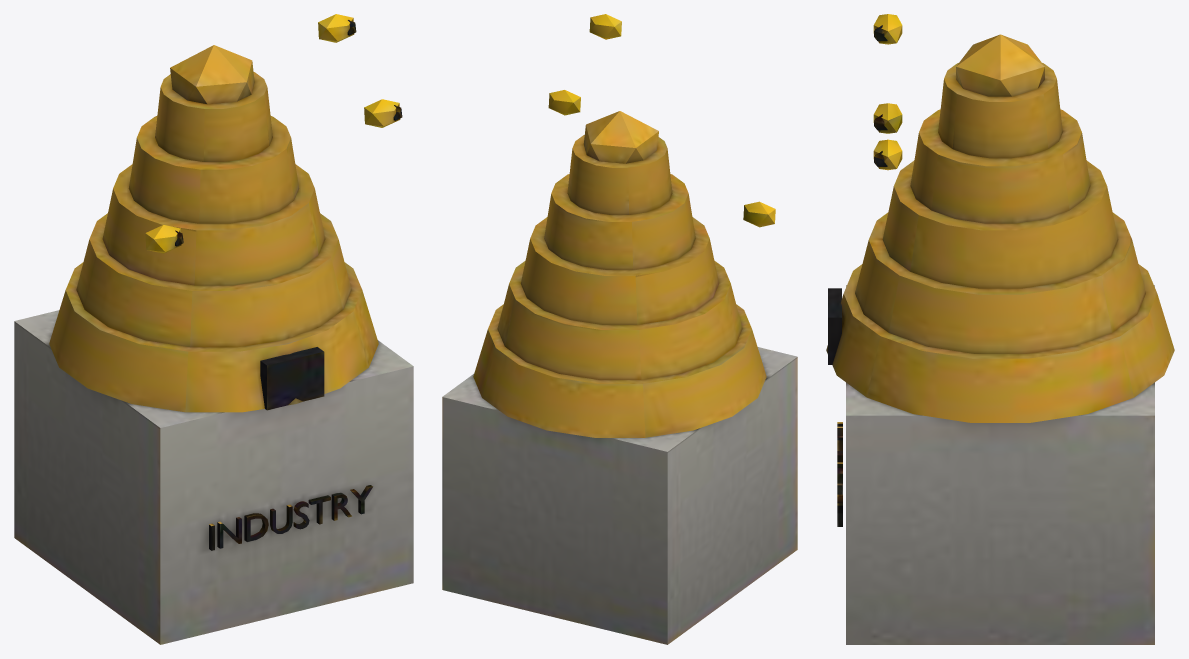
Rendered from colmena.glb.
The picture shows the model from 3 angles, left to right: view 1: azimuth 30°, elevation 25°; view 2: azimuth 150°, elevation 25°; view 3: azimuth 270°, elevation 25°; orthographic projection. The views are drawn at different scales.
Visible parts, largest first — view 1: colmena; view 2: colmena; view 3: colmena.
Part boxes in pixels (left/top/right/bottom): colmena: left=14, top=14, right=413, bottom=644; colmena: left=442, top=14, right=797, bottom=644; colmena: left=826, top=14, right=1174, bottom=644.
Size of the model in its own units: 1.22 by 2.36 by 1.24.
Materials: 1 (1 with a texture image).
